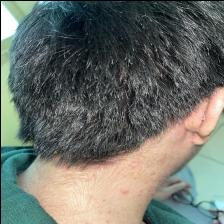DA: (52, 169, 158, 221)
